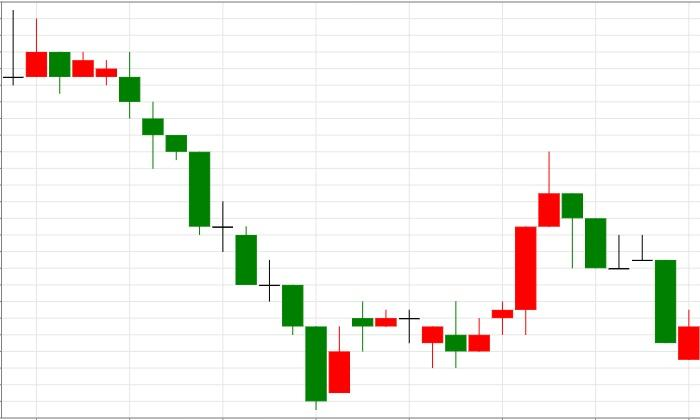hanging_man_fall: (445, 151, 583, 368)
